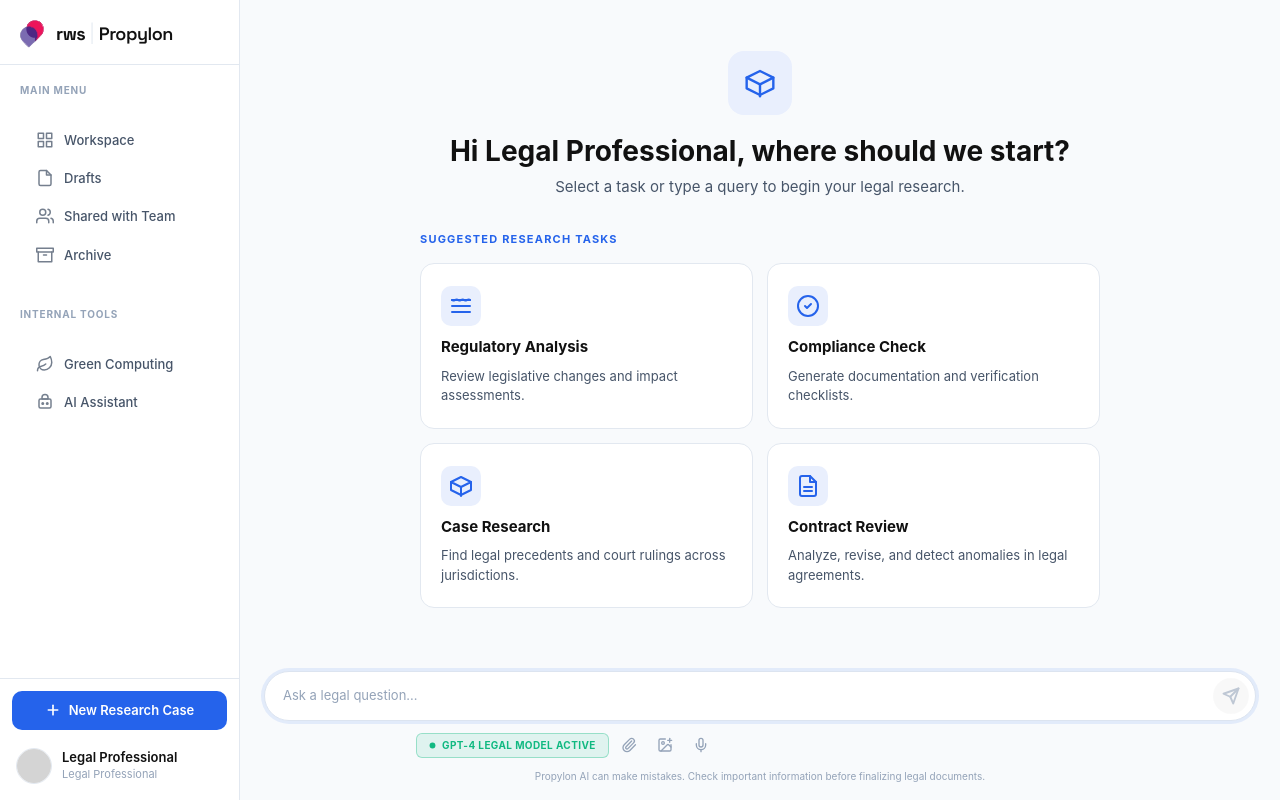
Test: AIagentPage › Chat Flow › shows chat header bar after first message
Step 1. Type "test" into the text box with placeholder "Ask a legal question…" → (744, 696), box [283, 680, 1205, 712]
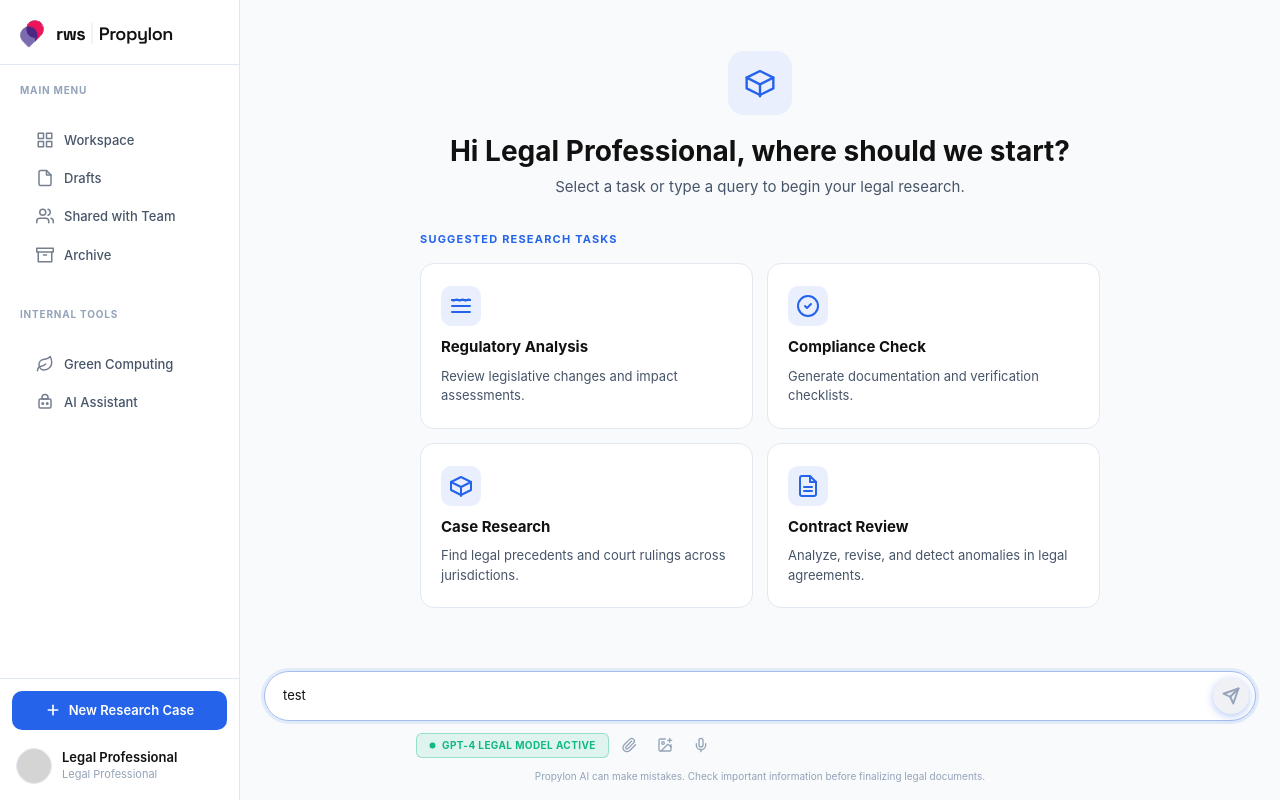
Step 2. Click the button named "send message" → (1231, 696), box [1213, 678, 1249, 714]
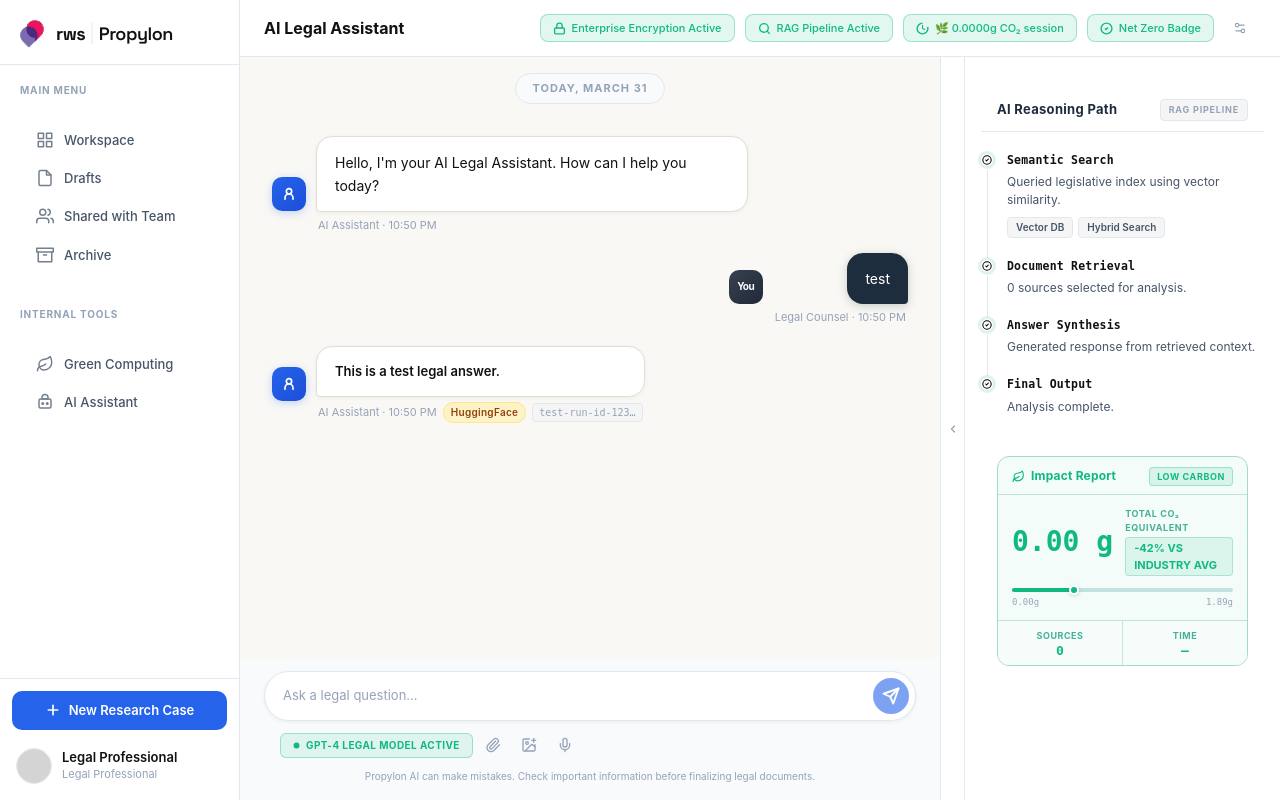
Expected: the text "AI Legal Assistant" is shown, [264, 16, 404, 40]
